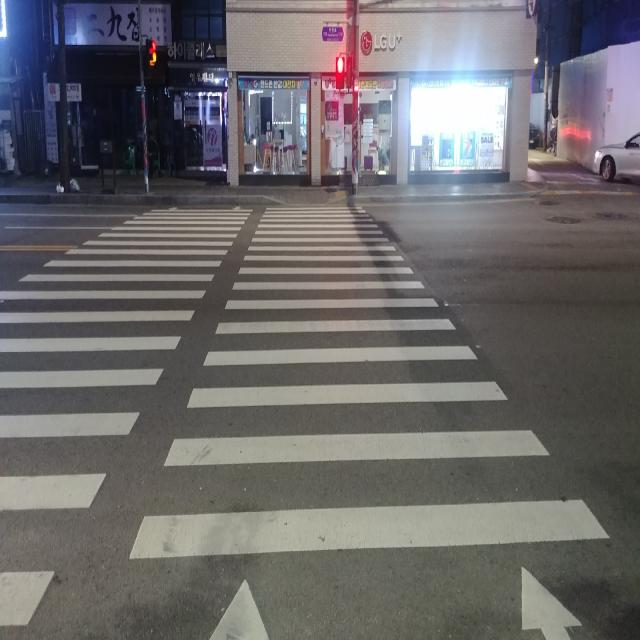빨간불: (334, 53, 350, 93)
횡단보도: (1, 201, 614, 640)
